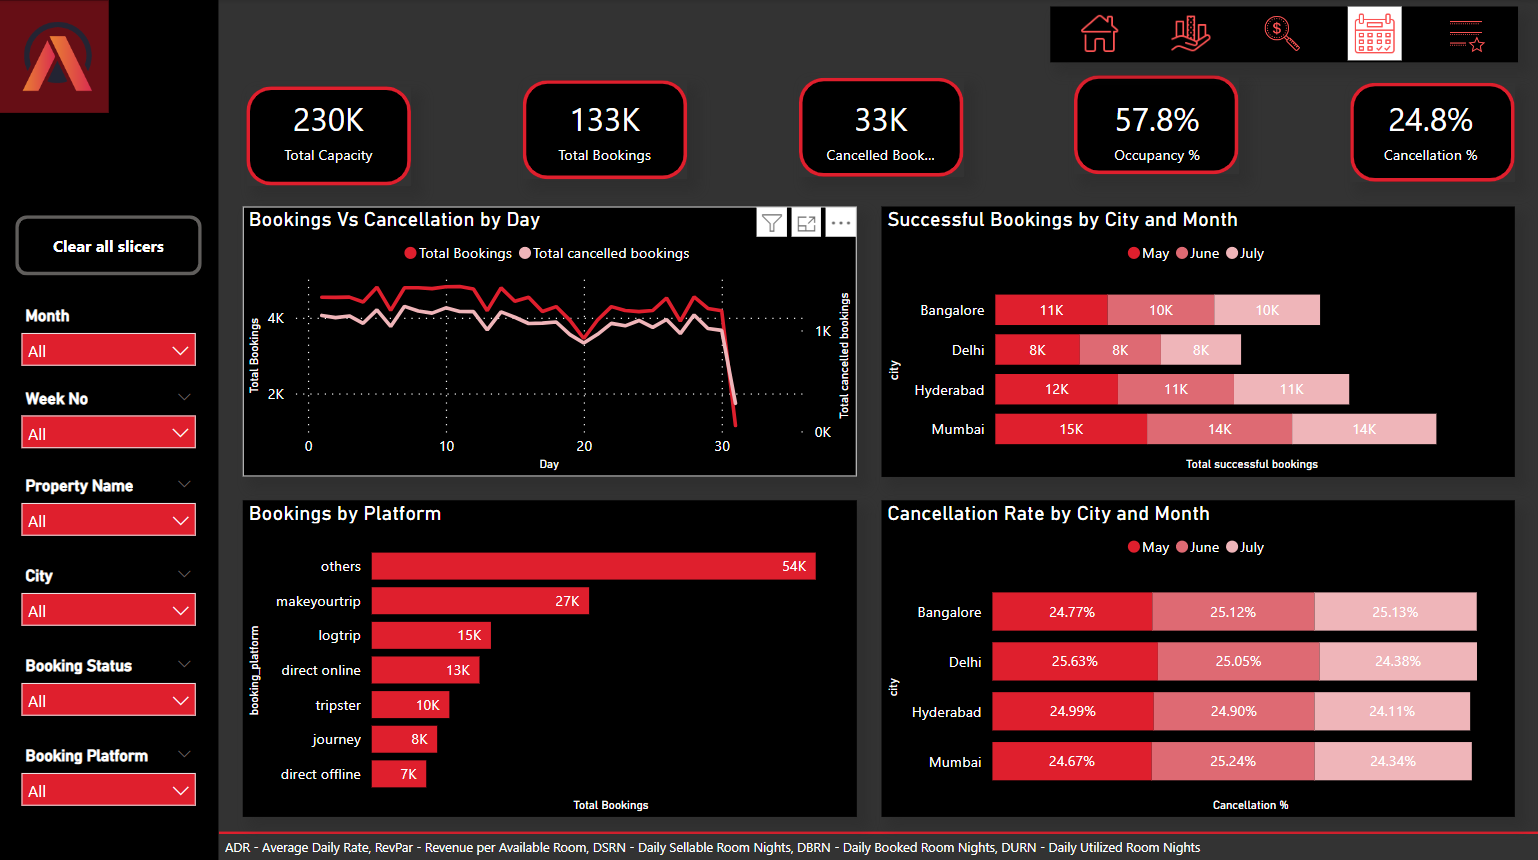

The page's visual inventory and layout, read from the dashboard file:
{"tool":"powerbi","page":{"name":"Bookings Vs Cancellation","canvas":[1280,720],"ordinal":4},"visuals":[{"type":"shape","box":[0,0,182.5,717.5],"z":1000},{"type":"slicer","fields":{"Values":["dim_hotels.city"]},"box":[8.8,466.6,165.2,58.9],"z":3000},{"type":"slicer","fields":{"Values":["dim_hotels.property_name"]},"box":[8.8,392.1,165.2,58.9],"z":4000},{"type":"slicer","fields":{"Values":["fact_bookings.booking_platform"]},"box":[8.8,615.8,165.2,58.9],"z":6000},{"type":"slicer","fields":{"Values":["fact_bookings.booking_status"]},"box":[8.8,541.2,165.2,58.9],"z":8000},{"type":"slicer","fields":{"Values":["dim_date.mmm yy"]},"box":[8.8,250.7,165,60],"z":9000},{"type":"textbox","box":[182.5,690,1097.5,30],"z":10000},{"type":"shape","box":[182.5,683.8,1097.5,18.8],"z":11000},{"type":"lineChart","title":"Bookings Vs Cancellation by Day","fields":{"Y":["Key_measures.Total Bookings"],"Y2":["Key_measures.Total cancelled bookings"],"Category":["dim_date.date.Variation.Date Hierarchy.Day"]},"box":[202.2,172.2,510,224.4],"z":12000},{"type":"barChart","title":"Successful Bookings by City and Month","fields":{"Category":["dim_hotels.city"],"Y":["Key_measures.Total successful bookings"],"Series":["dim_date.date.Variation.Date Hierarchy.Month"]},"box":[733.3,172.2,526.7,224.4],"z":13000},{"type":"barChart","title":"Cancellation Rate by City and Month","fields":{"Category":["dim_hotels.city"],"Y":["Key_measures.Cancellation %"],"Series":["dim_date.date.Variation.Date Hierarchy.Month"]},"box":[733.3,416.7,526.7,263.3],"z":14000},{"type":"clusteredBarChart","title":"Bookings by Platform","fields":{"Category":["fact_bookings.booking_platform"],"Y":["Key_measures.Total Bookings"]},"box":[202.2,416.7,510,263.3],"z":15000},{"type":"shape","box":[206.2,72.2,136.7,82.2],"z":16000},{"type":"card","fields":{"Values":["Key_measures.Total Capacity"]},"box":[223.3,73.3,101.1,70],"z":17000},{"type":"shape","box":[1122.9,69.9,136.7,82.2],"z":18000},{"type":"card","fields":{"Values":["Key_measures.Cancellation %"]},"box":[1140,73.3,101.1,70],"z":19000},{"type":"shape","box":[893.7,62.9,136.7,82.2],"z":20000},{"type":"card","fields":{"Values":["Key_measures.Occupancy %"]},"box":[912.2,73.3,101.1,70],"z":21000},{"type":"shape","box":[664.6,65.2,136.7,82.2],"z":22000},{"type":"card","fields":{"Values":["Key_measures.Total cancelled bookings"]},"box":[682.2,73.3,101.1,70],"z":23000},{"type":"shape","box":[435.4,67.6,136.7,82.2],"z":24000},{"type":"card","fields":{"Values":["Key_measures.Total Bookings"]},"box":[453.3,73.3,101.1,70],"z":25000},{"type":"image","title":"atliq","box":[0,1.2,91.2,93.8],"z":26000},{"type":"slicer","fields":{"Values":["dim_date.week no"]},"box":[8.8,318.8,165,60],"z":27000},{"type":"actionButton","box":[13.8,180,155,50],"z":28000},{"type":"shape","box":[873.5,5.9,388.7,46.2],"z":29000},{"type":"image","box":[892.3,5.9,45,45],"z":30000},{"type":"image","box":[968.5,6.2,45,45],"z":31000},{"type":"image","box":[1196.9,6.1,45,45],"z":32000},{"type":"image","box":[1120.8,6.4,45,45],"z":33000},{"type":"image","box":[1044.6,6.3,45,45],"z":34000}]}

Visuals, with their boxes in screenshot pixels (x1, y1, x2, y2), scaled from the page's 1280x720 canvas onto the 1538x860 screenshot:
shape: 0:0:219:857
slicer - dim_hotels.city: 11:557:209:628
slicer - dim_hotels.property_name: 11:468:209:539
slicer - fact_bookings.booking_platform: 11:736:209:806
slicer - fact_bookings.booking_status: 11:646:209:717
slicer - dim_date.mmm yy: 11:299:209:371
textbox: 219:824:1537:859
shape: 219:817:1537:839
"Bookings Vs Cancellation by Day" lineChart: 243:206:856:474
"Successful Bookings by City and Month" barChart: 881:206:1514:474
"Cancellation Rate by City and Month" barChart: 881:498:1514:812
"Bookings by Platform" clusteredBarChart: 243:498:856:812
shape: 248:86:412:184
card - Key_measures.Total Capacity: 268:88:390:171
shape: 1349:83:1513:182
card - Key_measures.Cancellation %: 1370:88:1491:171
shape: 1074:75:1238:173
card - Key_measures.Occupancy %: 1096:88:1218:171
shape: 799:78:963:176
card - Key_measures.Total cancelled bookings: 820:88:941:171
shape: 523:81:687:179
card - Key_measures.Total Bookings: 545:88:666:171
"atliq" image: 0:1:110:113
slicer - dim_date.week no: 11:381:209:452
actionButton: 17:215:203:275
shape: 1050:7:1517:62
image: 1072:7:1126:61
image: 1164:7:1218:61
image: 1438:7:1492:61
image: 1347:8:1401:61
image: 1255:8:1309:61
